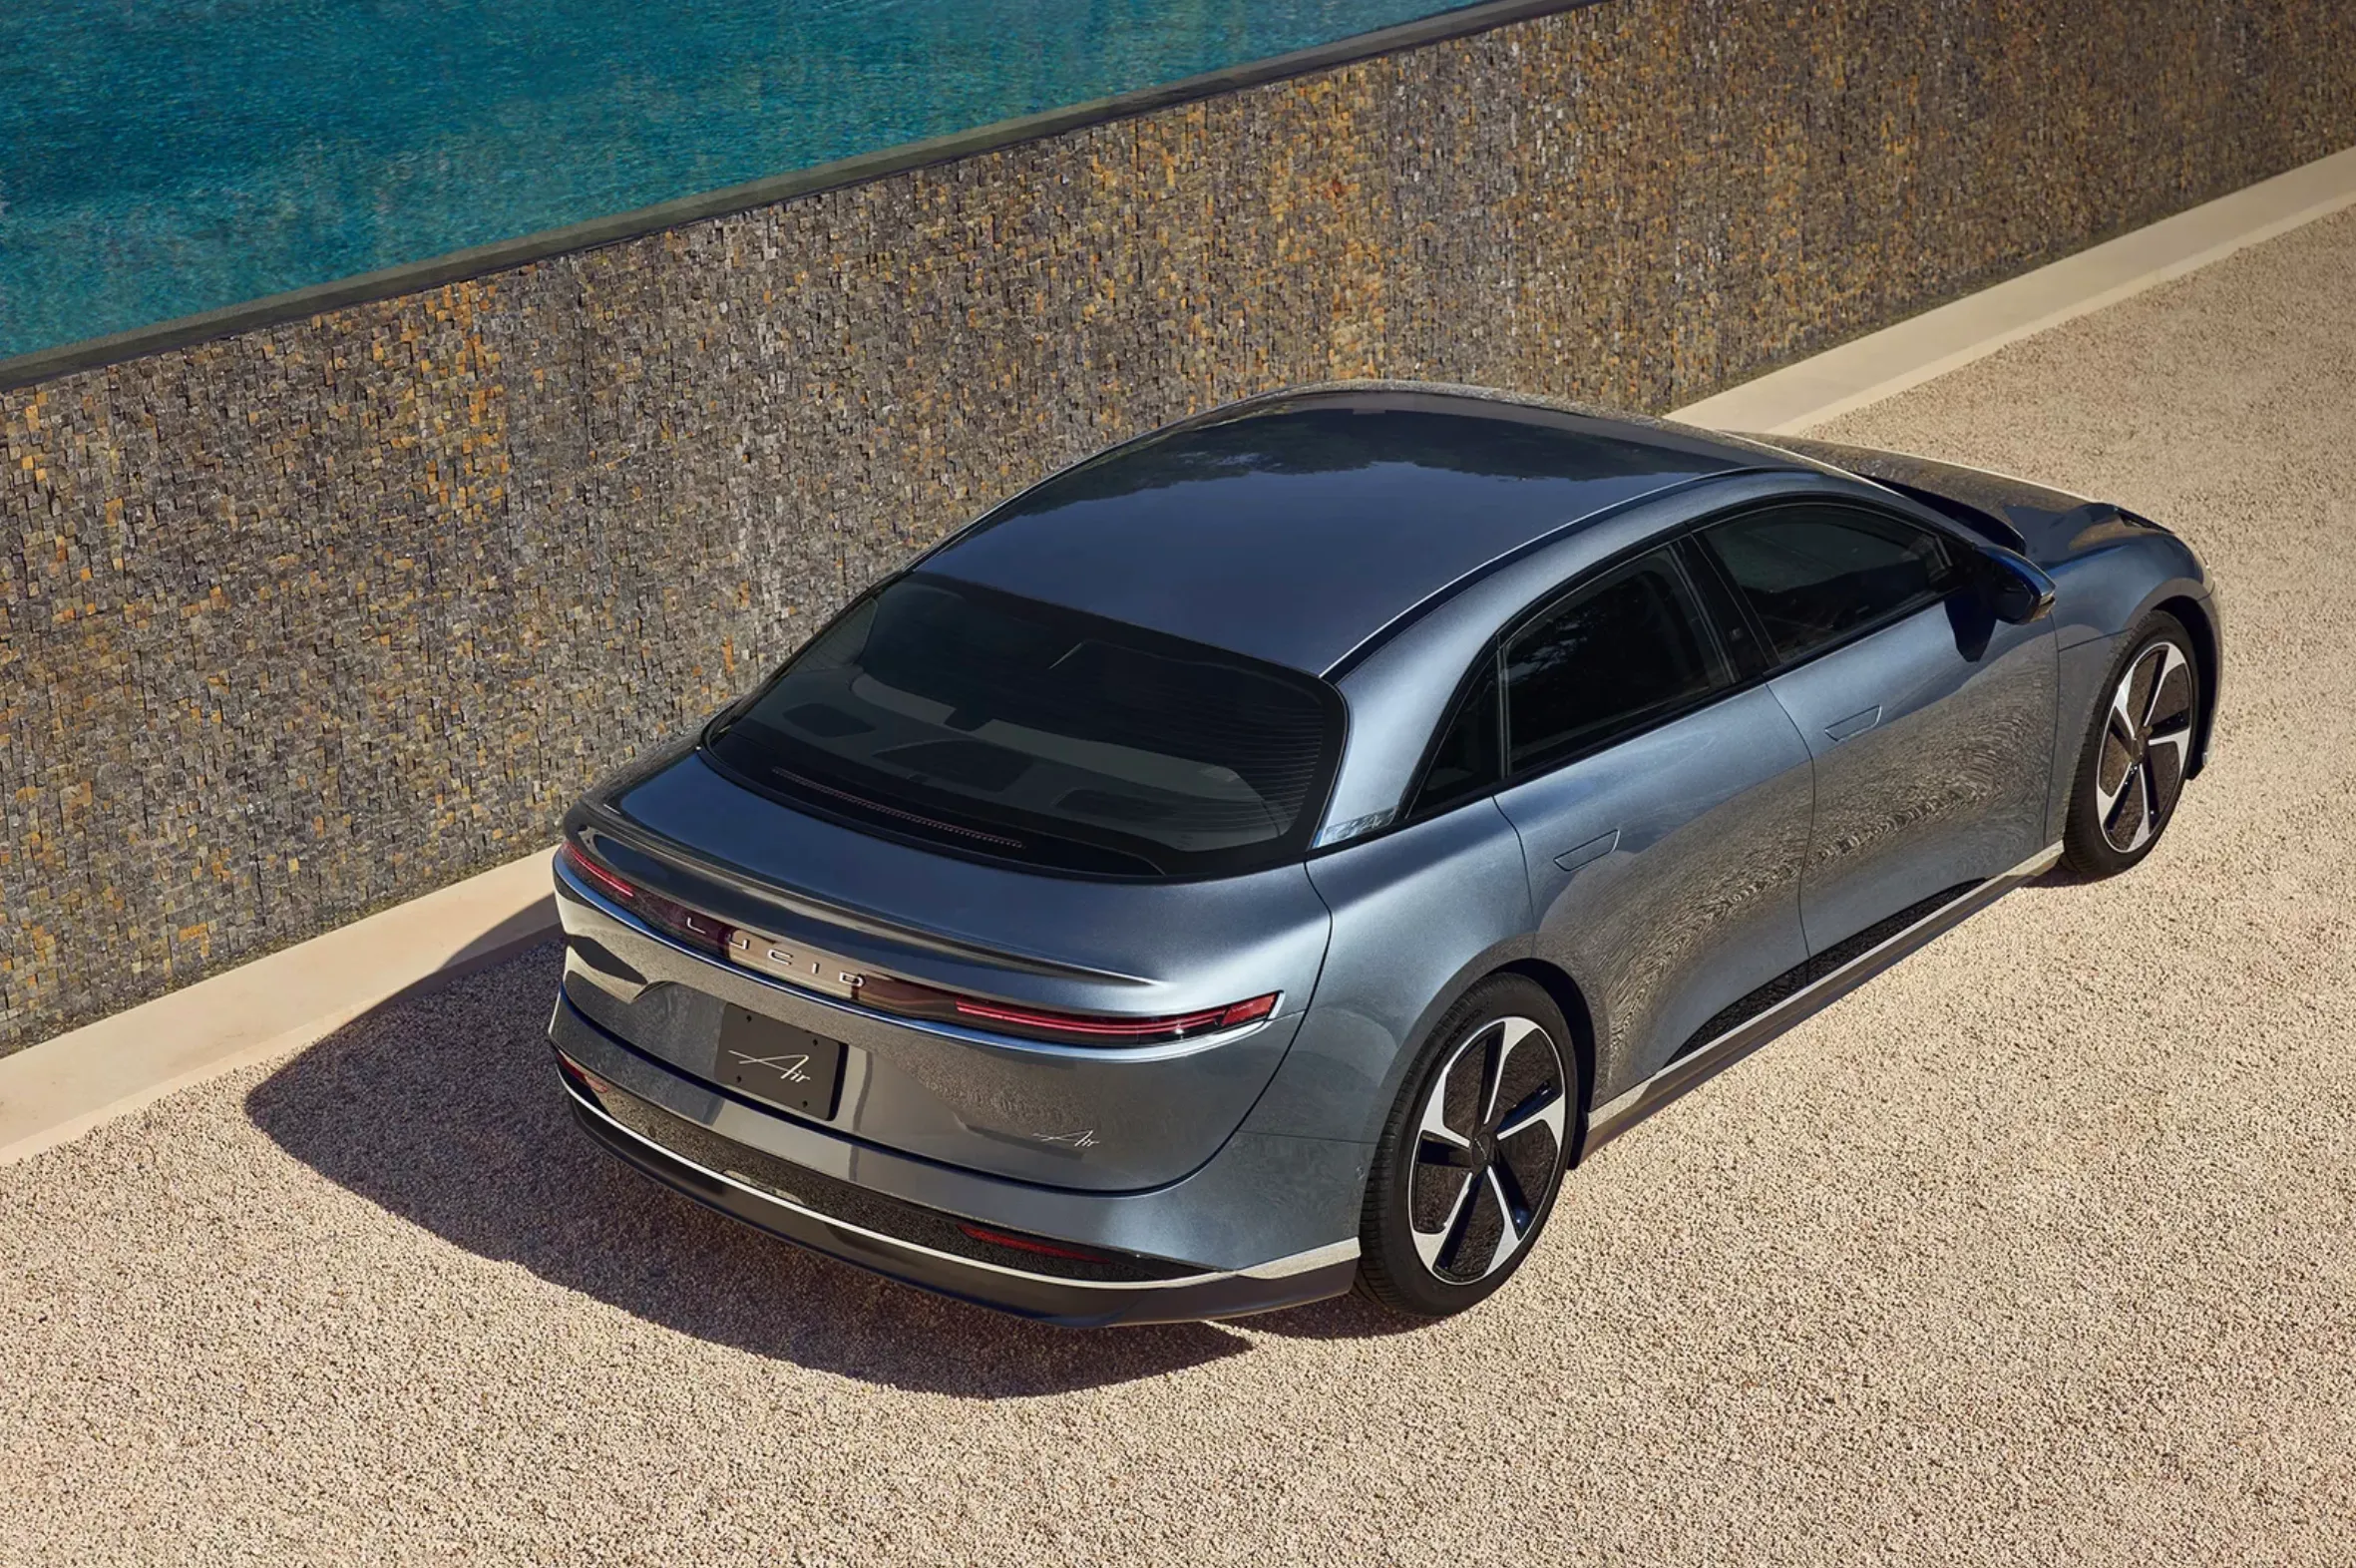car: (539, 343, 2246, 1349)
